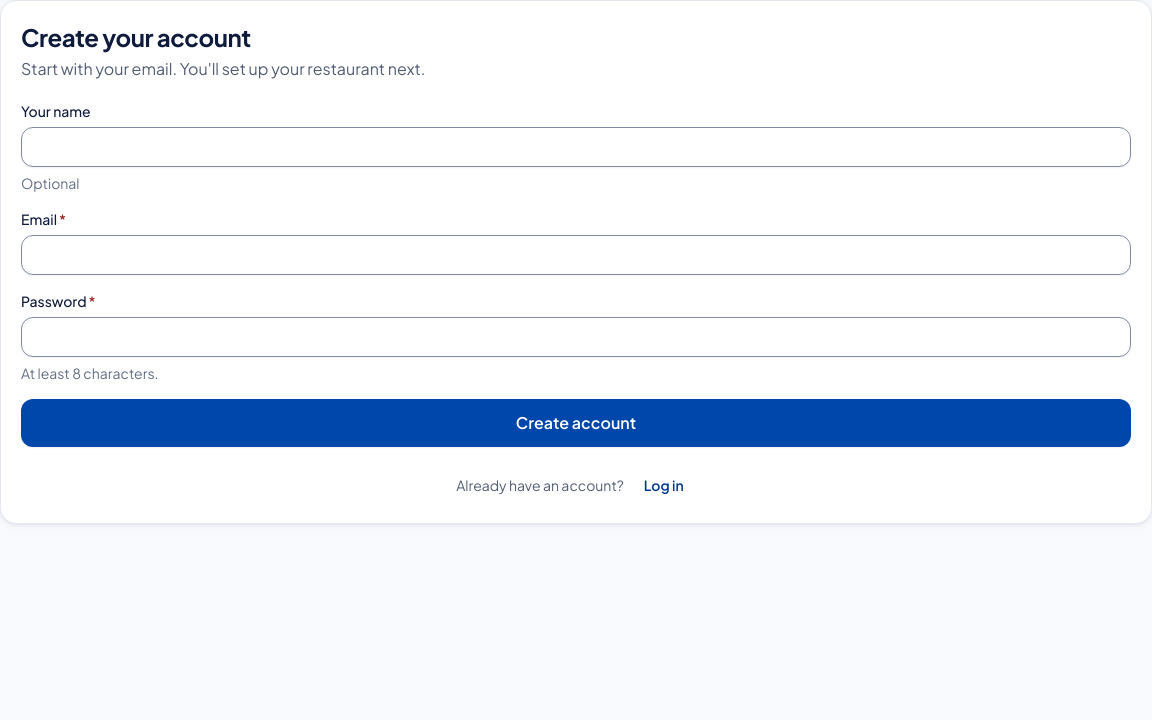
signup › keeps input on a refusal, then shows check-your-email on success
Type "Sari" into the field labelled "Your name" at (576, 147), box left=21, top=127, right=1131, bottom=167
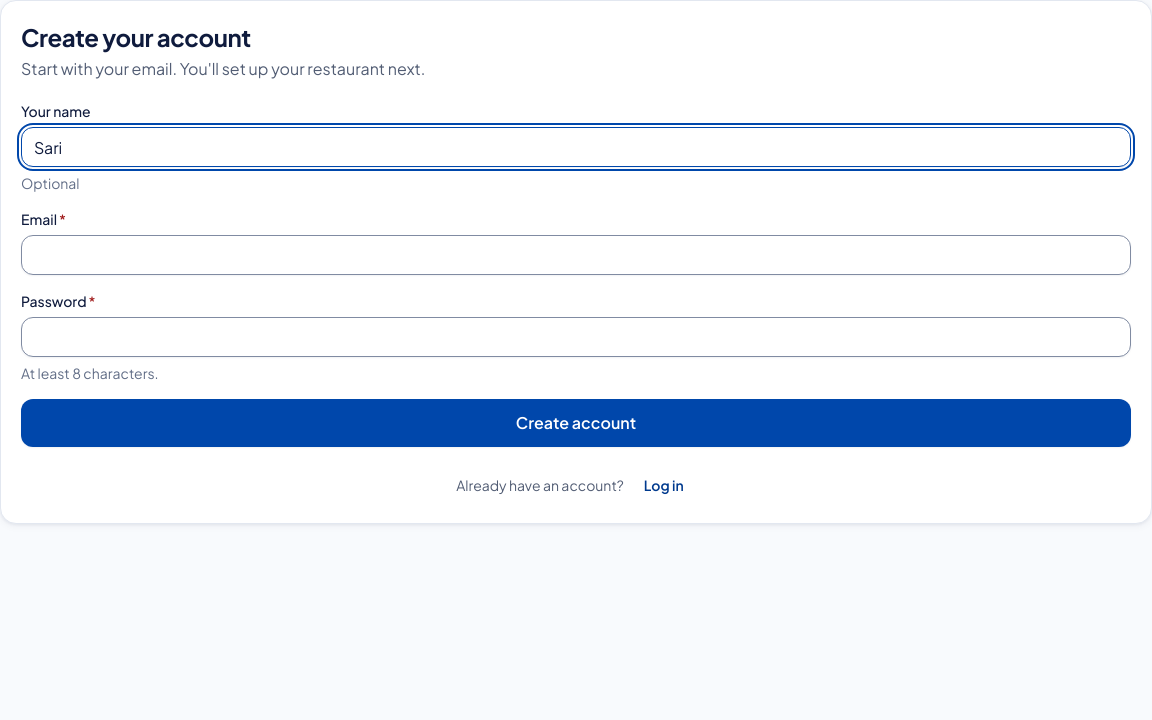
Type "sari@example.com" into the field labelled "Email*" at (576, 255), box left=21, top=235, right=1131, bottom=275
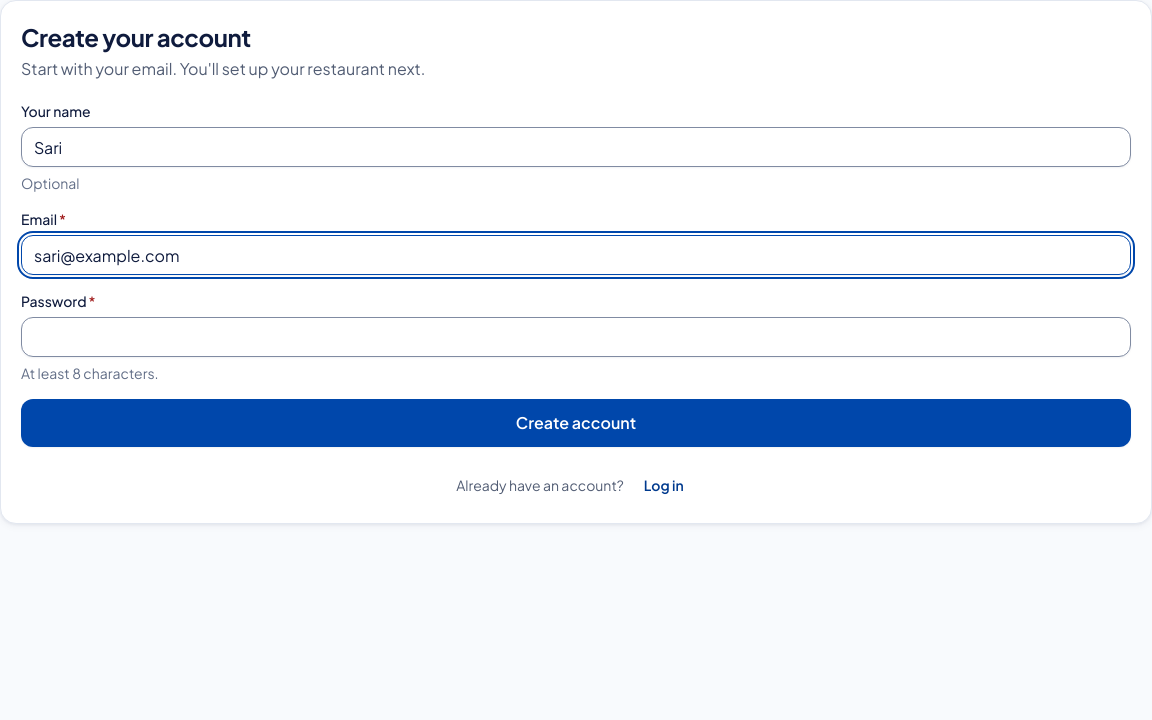
Type "password123" into the password field labelled "Password*" at (576, 337), box left=21, top=317, right=1131, bottom=357
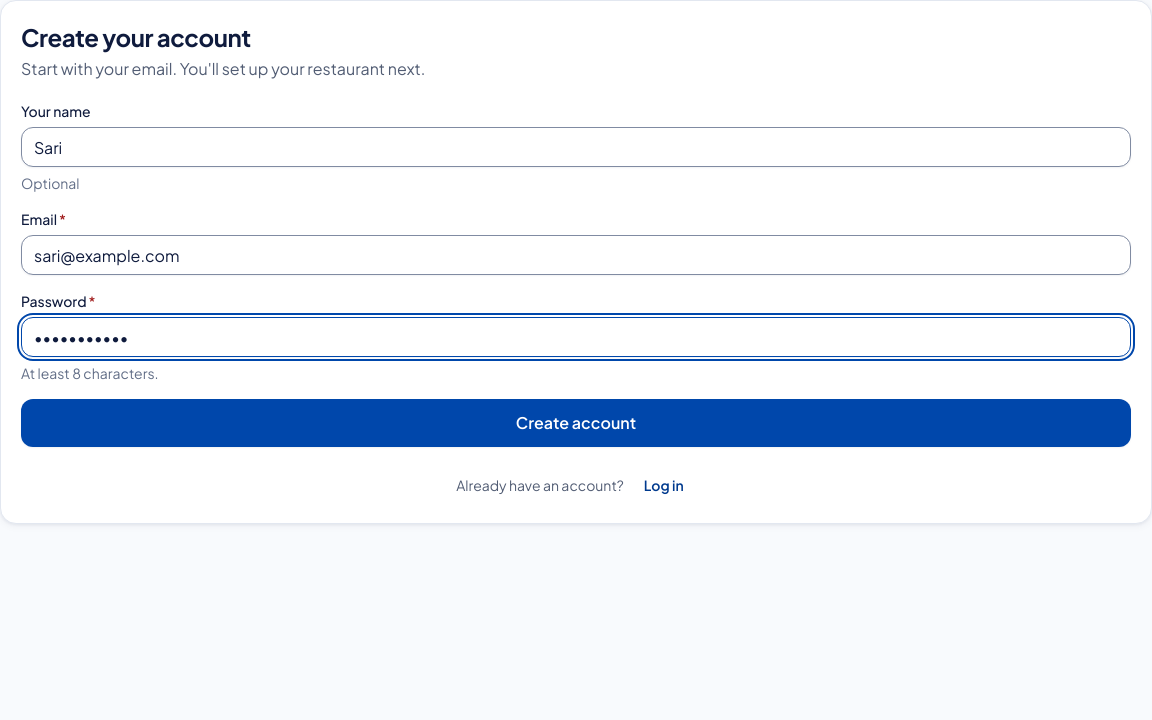
Click the button "Create account" at (576, 423), box left=21, top=399, right=1131, bottom=447
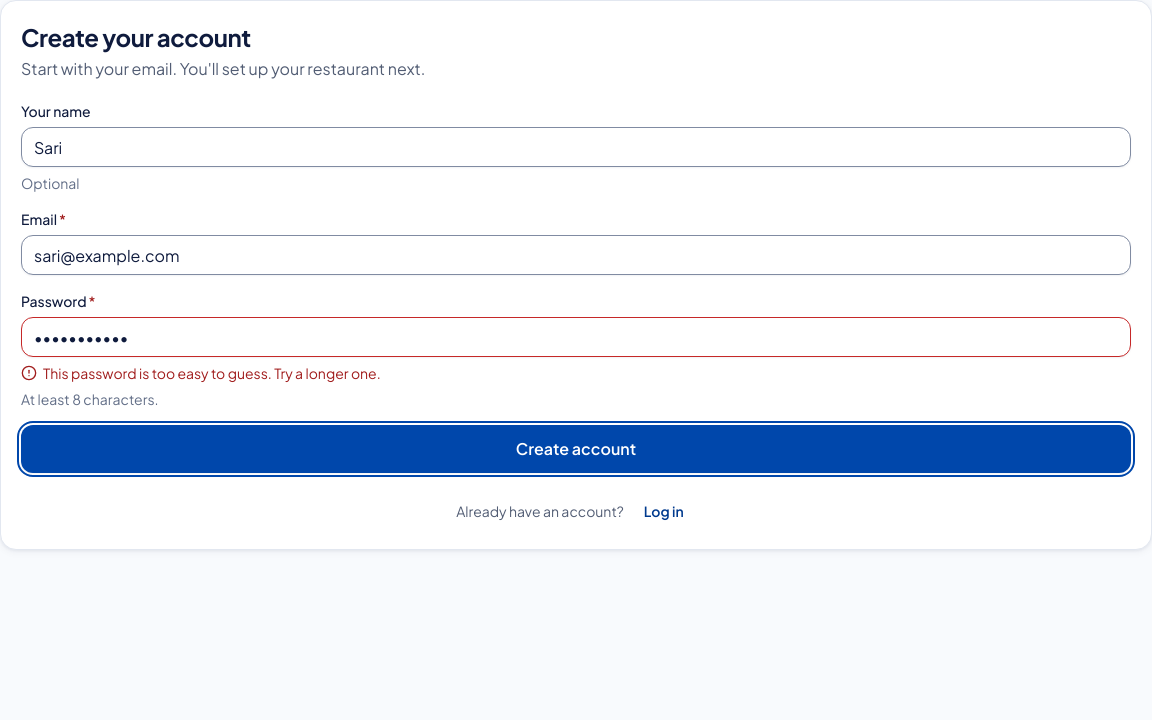
Expected: the text "This password is too easy to guess. Try a longer one." is shown, left=43, top=363, right=381, bottom=383
Click the button "Create account" at (576, 449), box left=21, top=425, right=1131, bottom=473
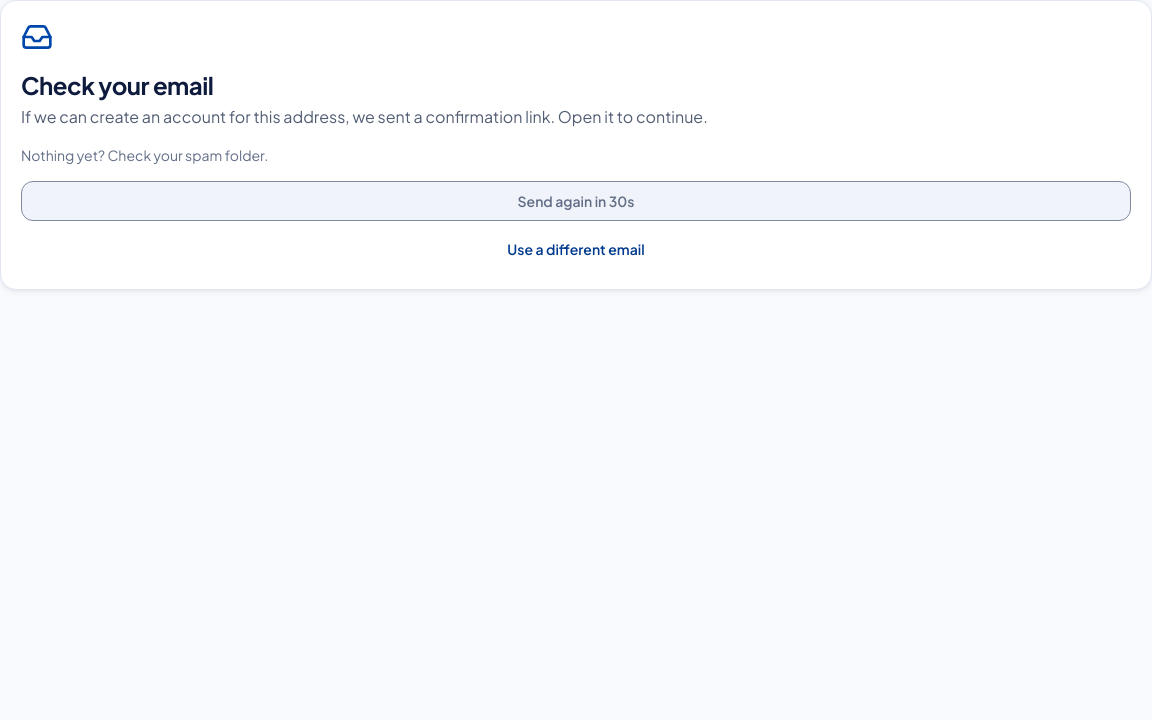
Expected: the heading "Check your email" is shown, left=21, top=70, right=213, bottom=100
Expected: the text "Already" is gone
